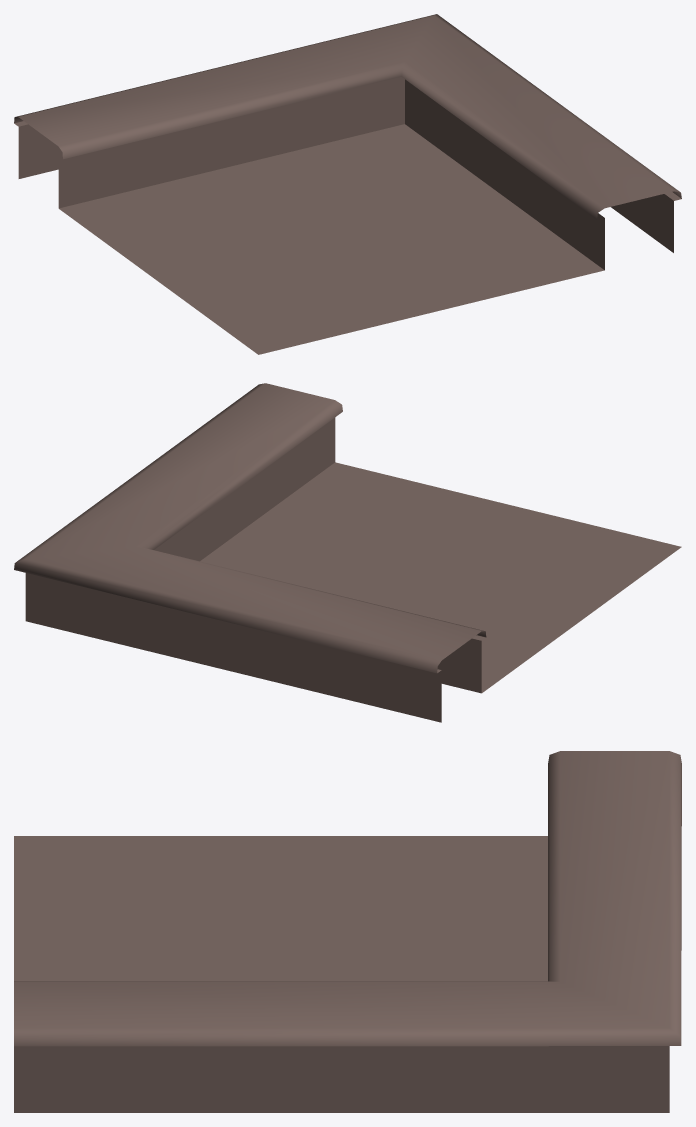
The model's file is Building_Roof_v2_07.fbx.
3 renders of one model, top to bottom at view 1: azimuth 30°, elevation 25°; view 2: azimuth 150°, elevation 25°; view 3: azimuth 270°, elevation 25°, orthographic. The views are drawn at different scales.
Parts seen in each view (by area): view 1: Building_Roof_v2_07; view 2: Building_Roof_v2_07; view 3: Building_Roof_v2_07.
Part boxes in pixels (box(x1,y1,x2,y2)): Building_Roof_v2_07: box(14, 14, 681, 354); Building_Roof_v2_07: box(14, 383, 681, 722); Building_Roof_v2_07: box(14, 751, 681, 1112).
Size of the model in its own units: 3.06 by 0.4286 by 3.06.
